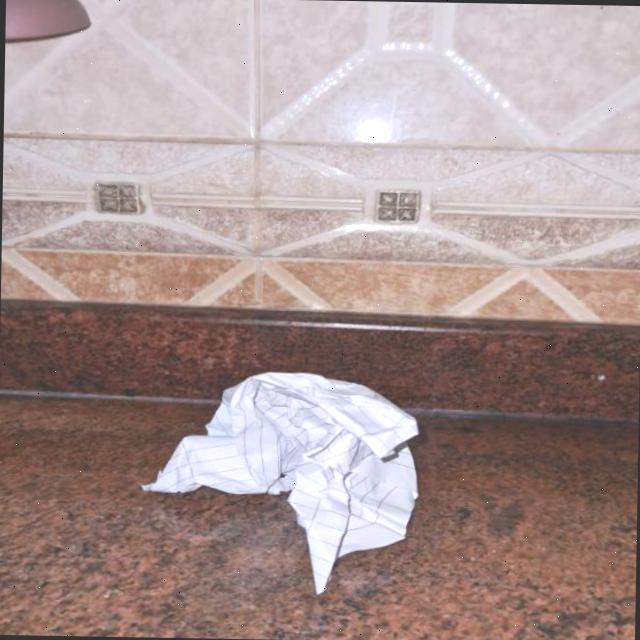trash: (146, 360, 448, 579)
